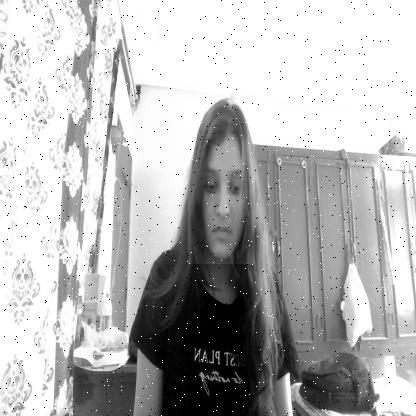Normal: (188, 99, 255, 264)
